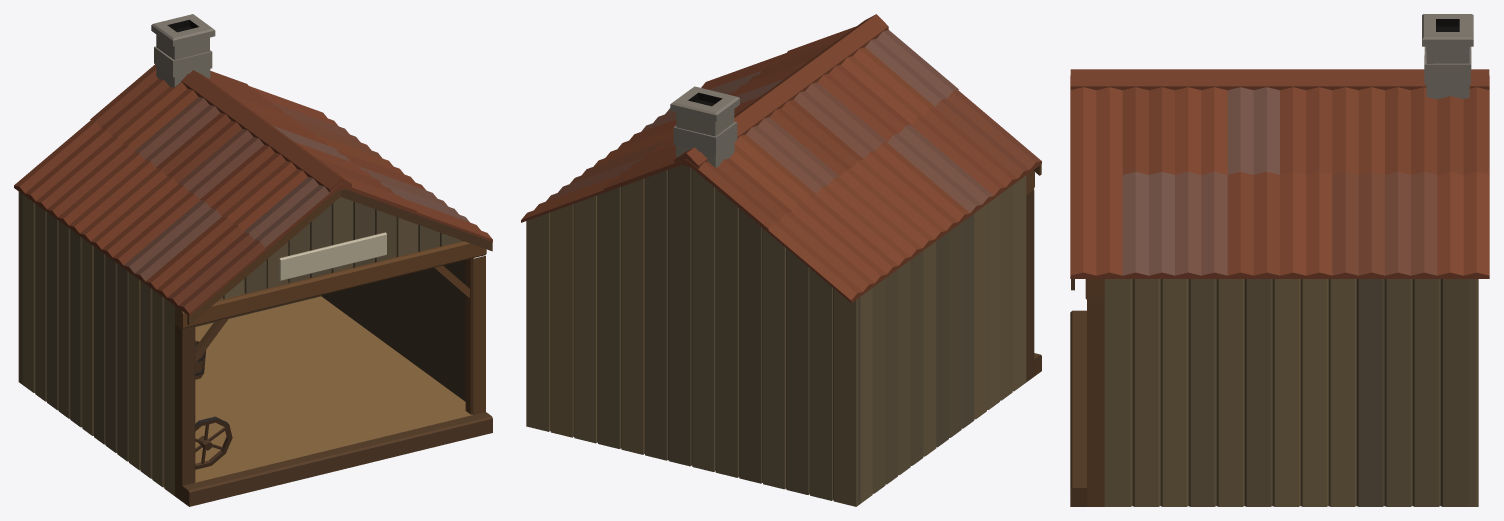
Rendered from blacksmith-s-shop-9c5f43.glb.
3 renders of one model, left to right at view 1: azimuth 30°, elevation 25°; view 2: azimuth 150°, elevation 25°; view 3: azimuth 270°, elevation 25°, orthographic. The views are drawn at different scales.
Visible parts, largest first — view 1: blacksmith-s-shop-mesh, wagon-wheel-mesh; view 2: blacksmith-s-shop-mesh; view 3: blacksmith-s-shop-mesh.
Part boxes in pixels (x1,y1,x2,y2): blacksmith-s-shop-mesh: (14,14,492,506); wagon-wheel-mesh: (195,416,232,469); blacksmith-s-shop-mesh: (521,14,1041,506); blacksmith-s-shop-mesh: (1070,14,1489,506).
Size of the model in its own units: 6 by 6.2 by 6.
